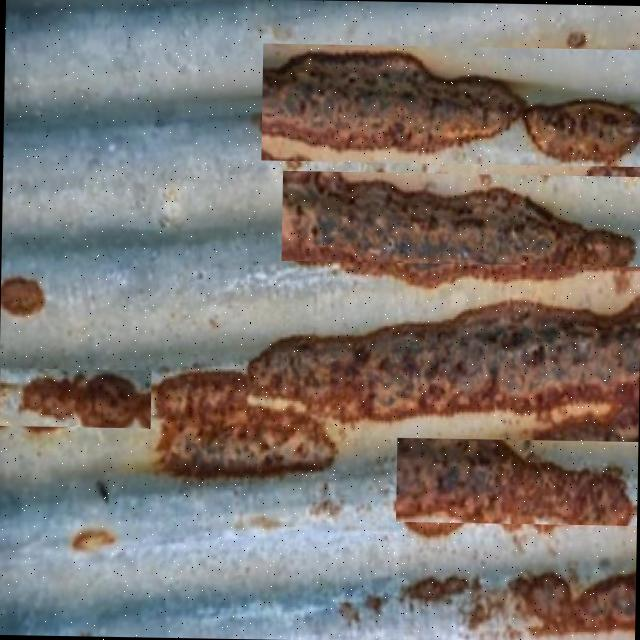Corrosion: (16, 282, 640, 488), (259, 46, 640, 167), (278, 170, 636, 290), (392, 436, 634, 538), (335, 562, 634, 640), (521, 95, 640, 163), (18, 369, 151, 429), (0, 274, 45, 316)
